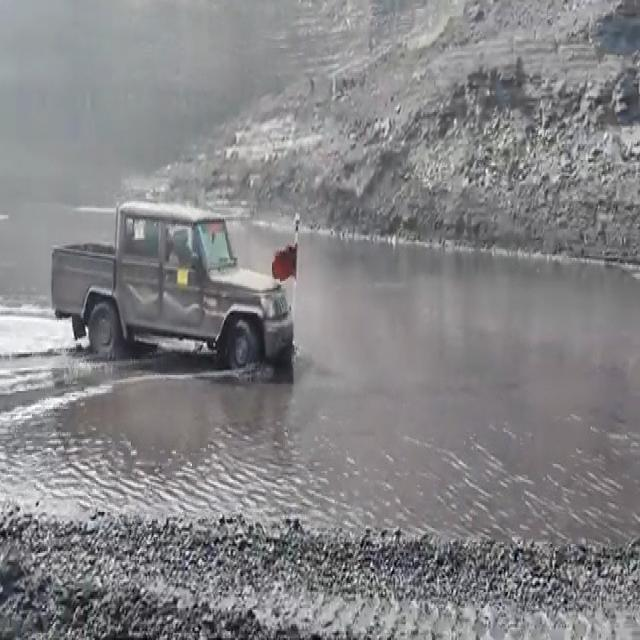light_vehicle: (46, 191, 296, 371)
